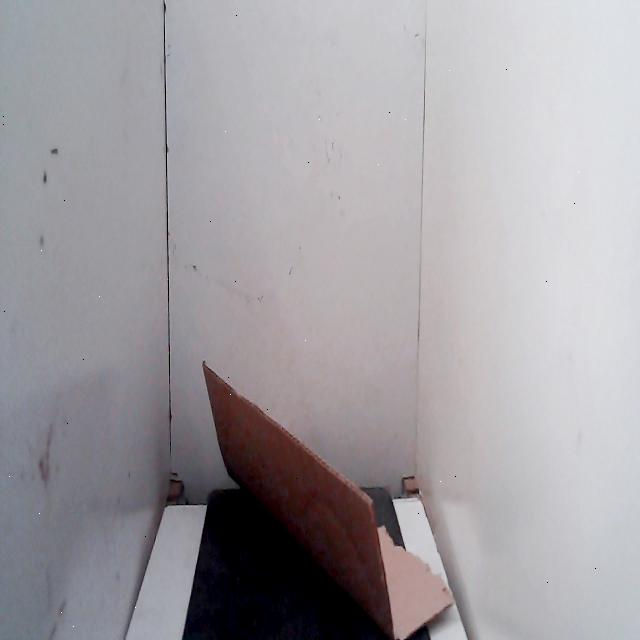paper: (195, 353, 462, 640)
